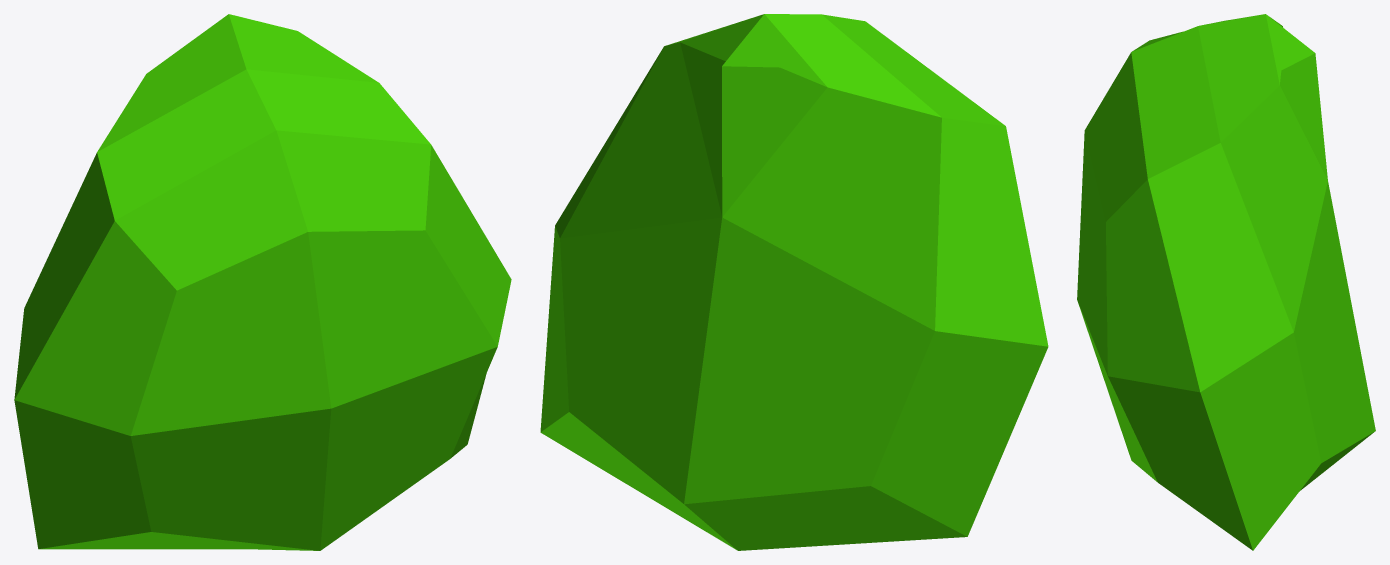
The model's file is lowpolySnake-body.fbx.
The picture shows the model from 3 angles, left to right: view 1: azimuth 30°, elevation 25°; view 2: azimuth 150°, elevation 25°; view 3: azimuth 270°, elevation 25°; orthographic projection. The views are drawn at different scales.
Parts seen in each view (by area): view 1: Cube; view 2: Cube; view 3: Cube.
Boxes of the visible parts, x1,y1,x2,y2 form: Cube: (14,14,511,550); Cube: (540,14,1048,550); Cube: (1077,14,1375,550).
Bounding box in the file's own units: 204 × 213 × 118.
